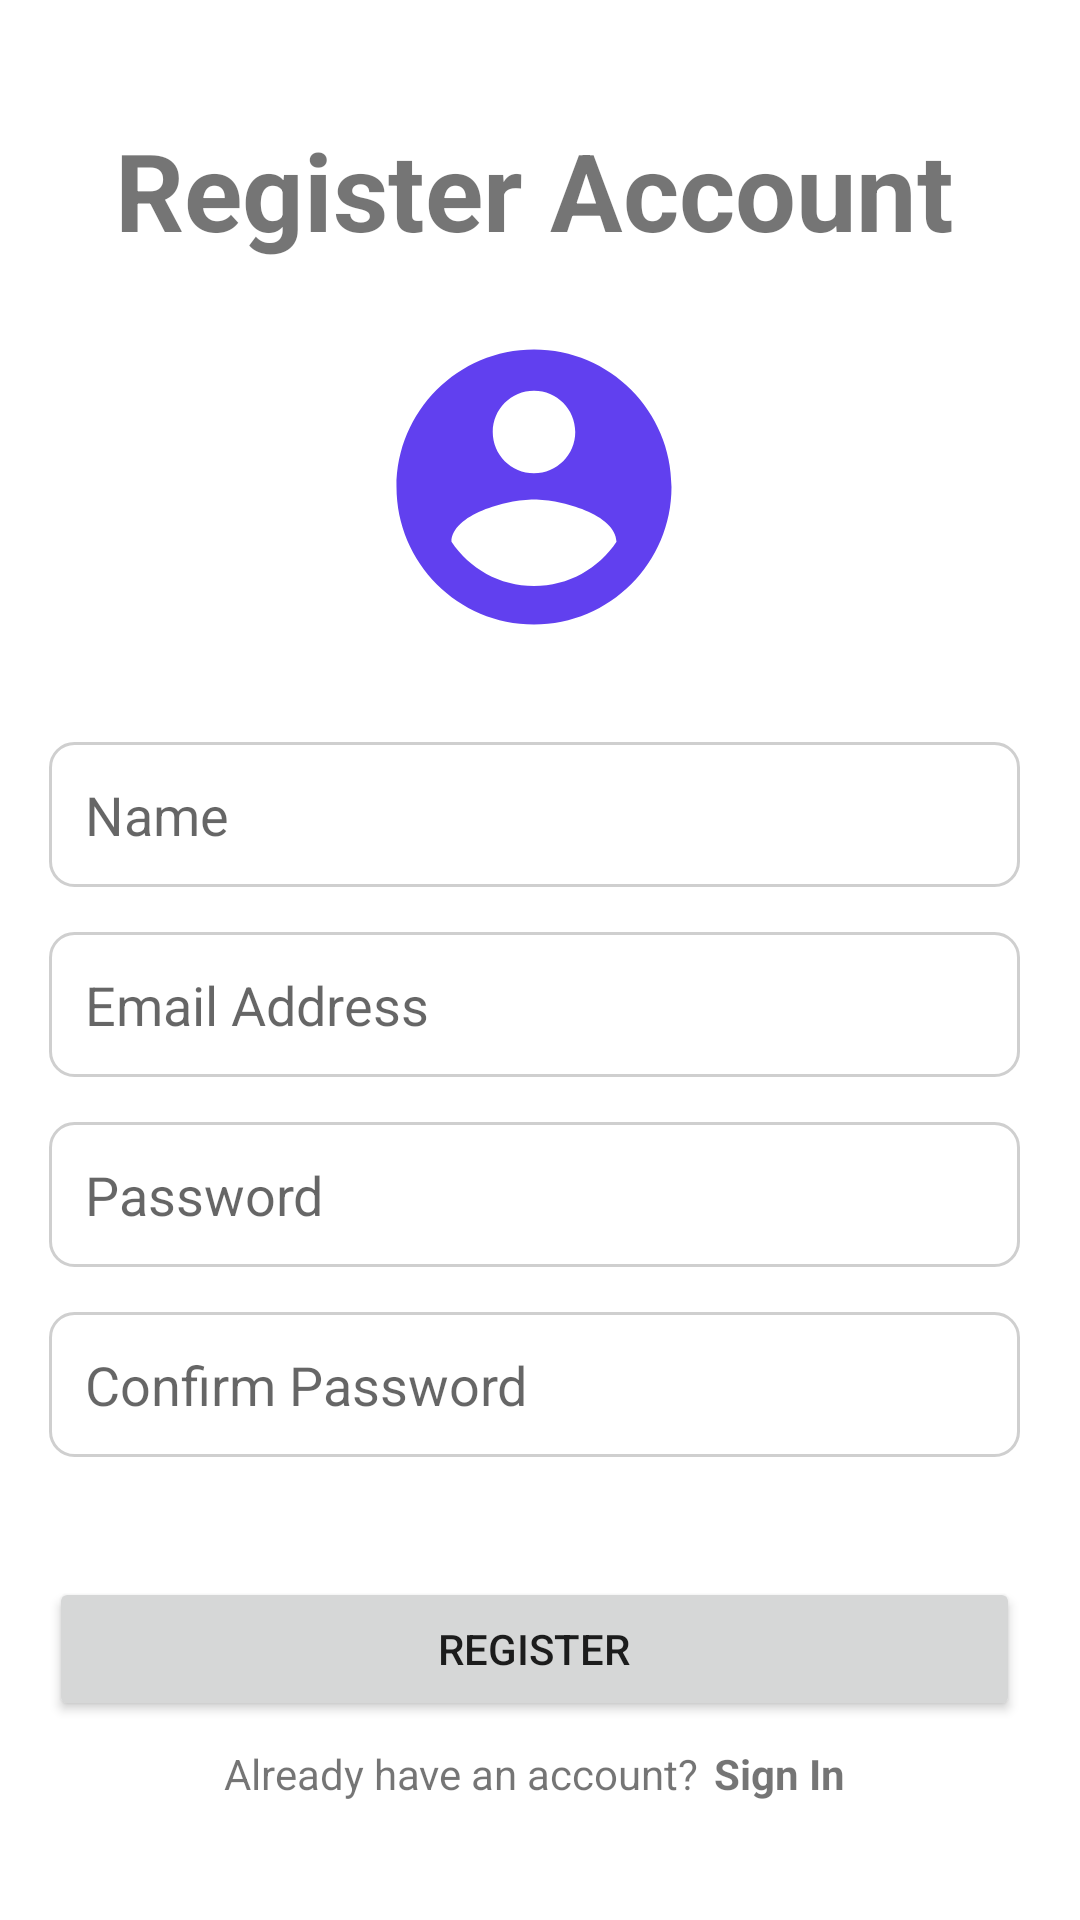

Icons on this 1080x1920 Android screen, each with the point to tap as (x,y):
account circle: (534,487)
